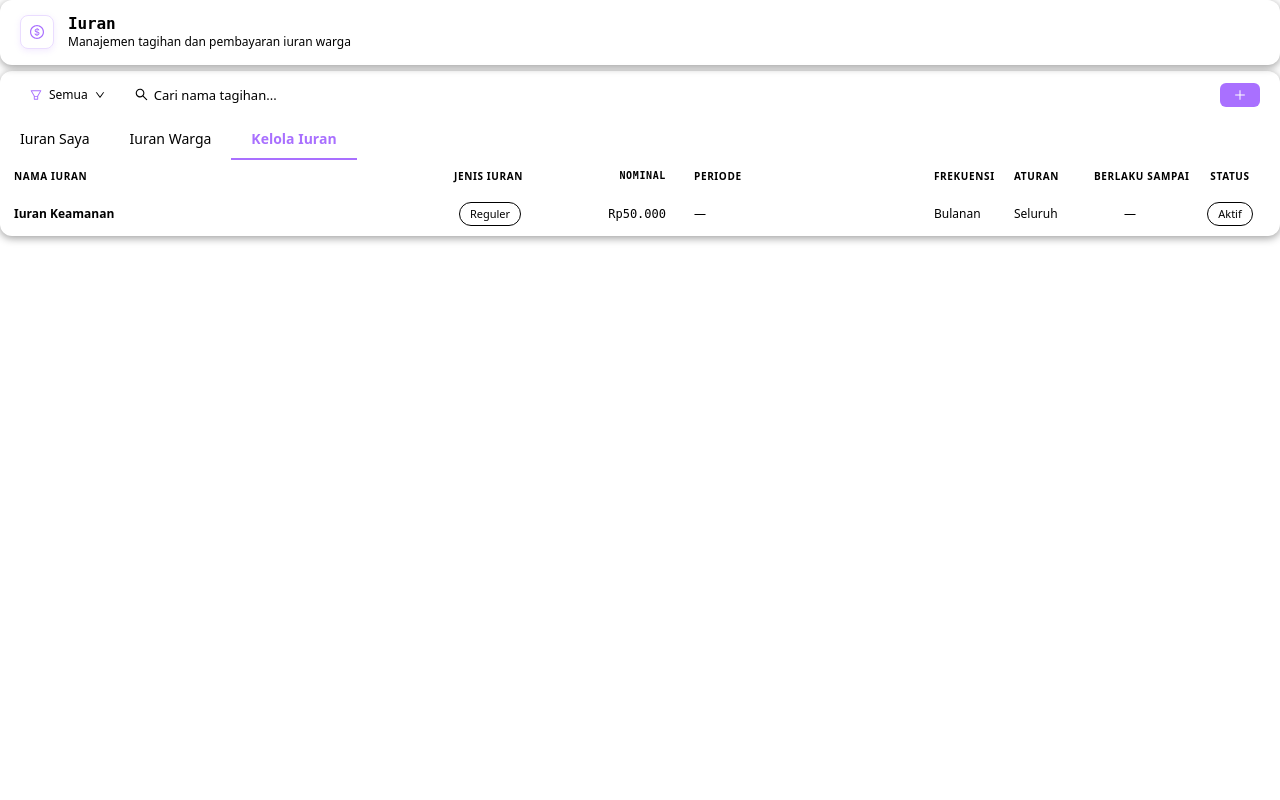
Test: IuranList - Kelola Iuran status management › shows the current status in Edit Iuran and persists Aktif -> Tidak Aktif
Click the text "Iuran Keamanan". click: (64, 213)
box: 14,205 -> 114,222
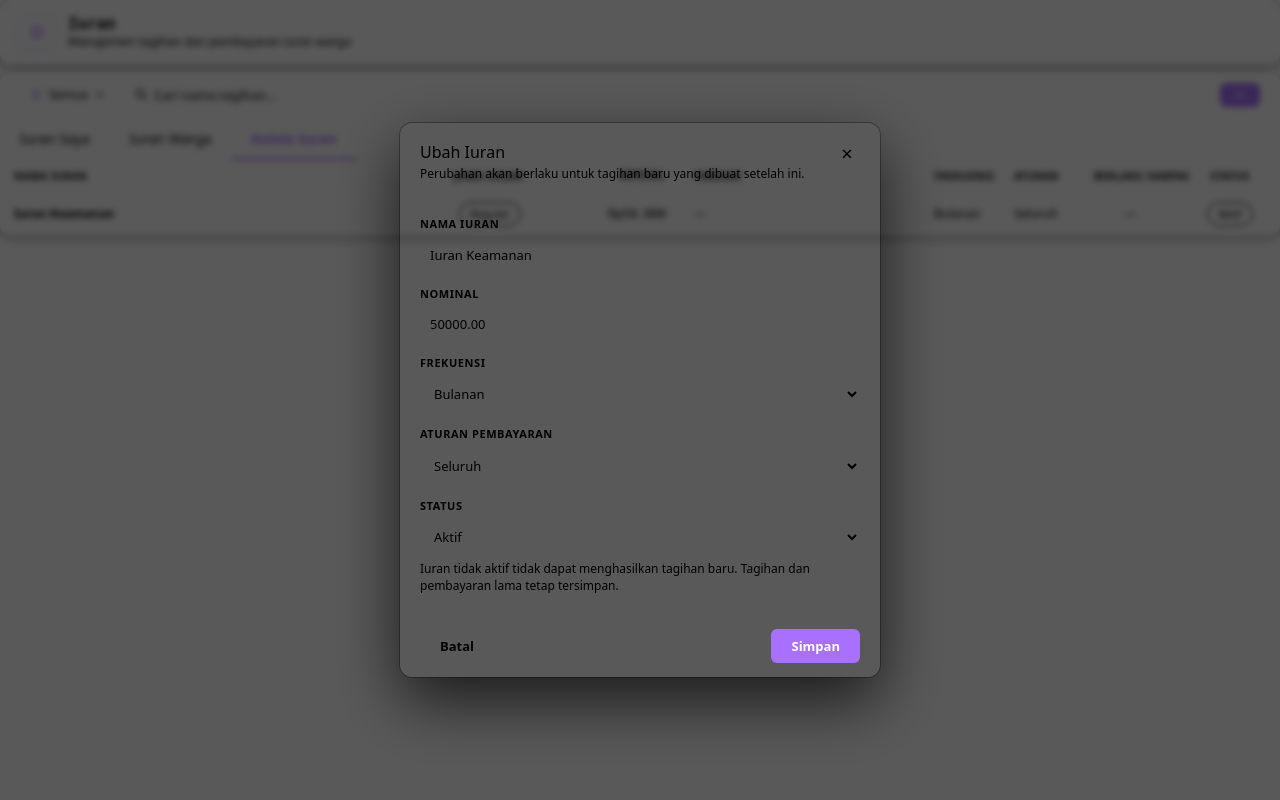
Expected: the dropdown labelled "Status" shows "Aktif"
Select "Tidak Aktif" in the dropdown labelled "Status". click: (640, 537)
box: 420,519 -> 860,555
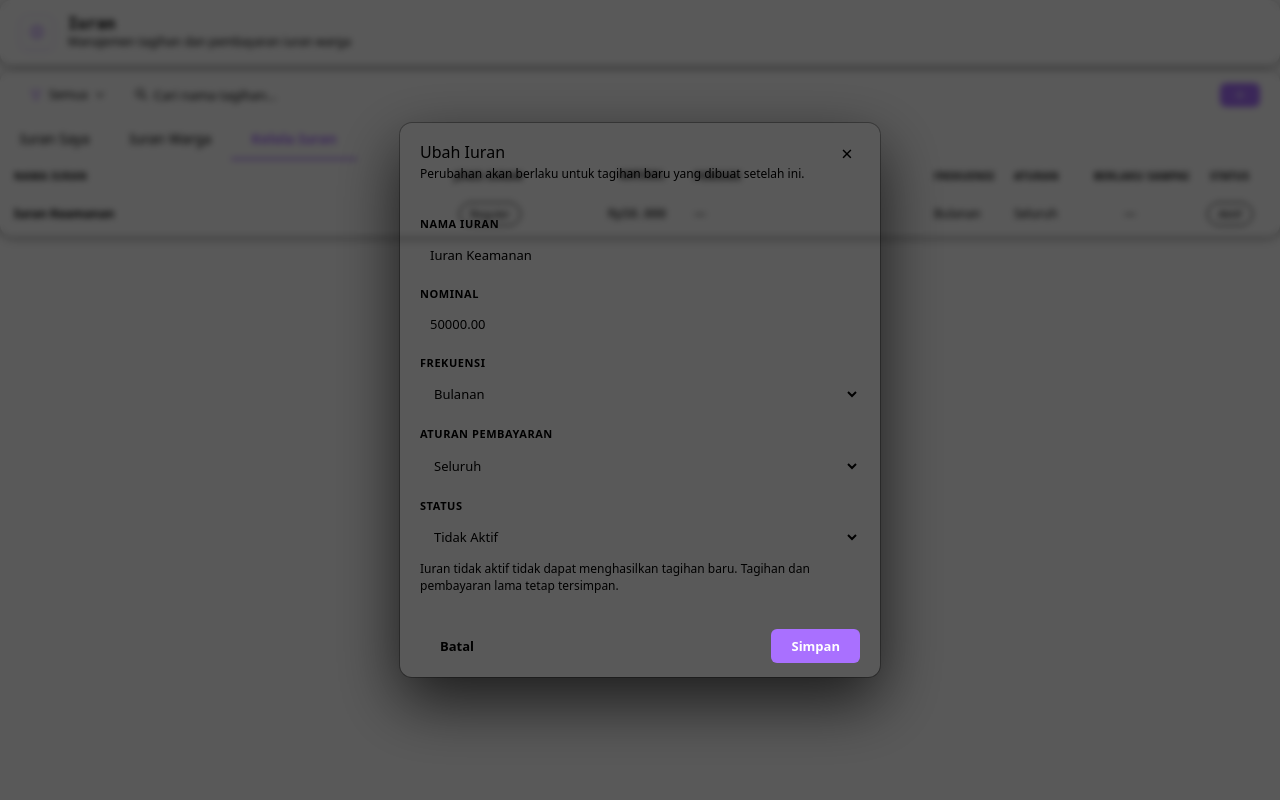
Click the button "Simpan". click: (816, 646)
box: 772,629 -> 860,663
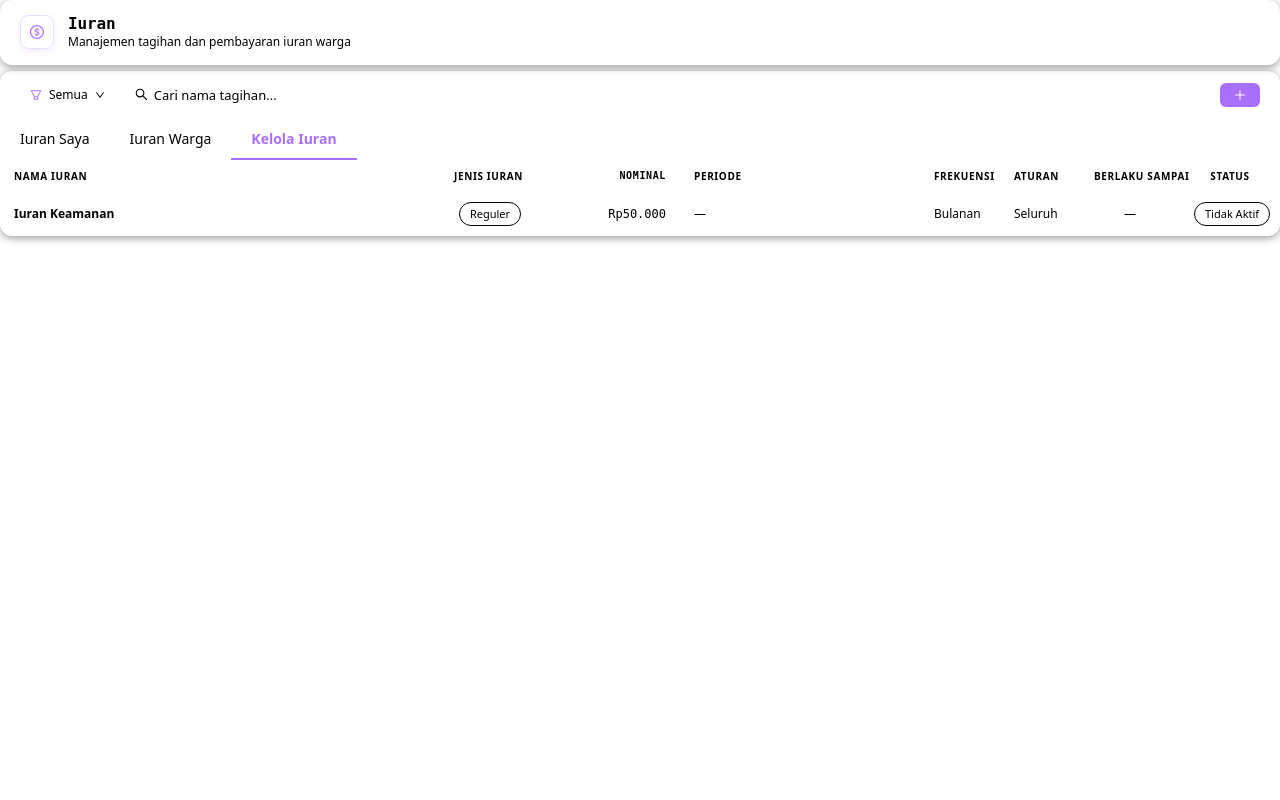
Expected: the text "Tidak Aktif" is shown, 1194,202 -> 1270,226
